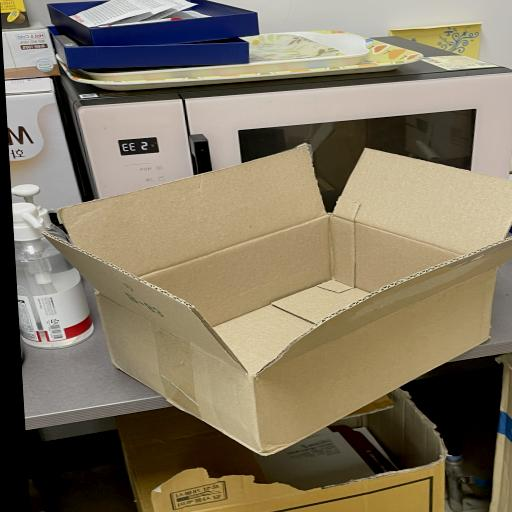box: (41, 142, 512, 456)
opened: (41, 143, 511, 378)
